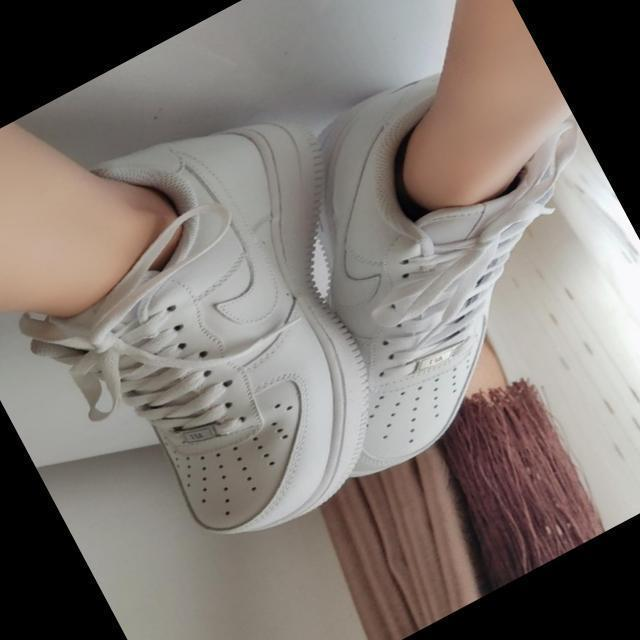nike original air force: (0, 62, 480, 596), (189, 17, 640, 518)
